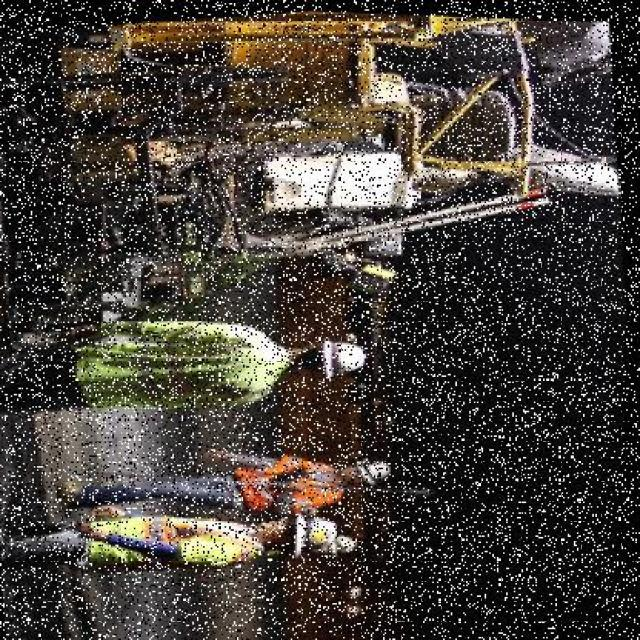helmet: (280, 503, 345, 562), (311, 328, 376, 382), (356, 448, 402, 484)
vest: (74, 310, 299, 421), (78, 497, 266, 583), (237, 443, 347, 514)
